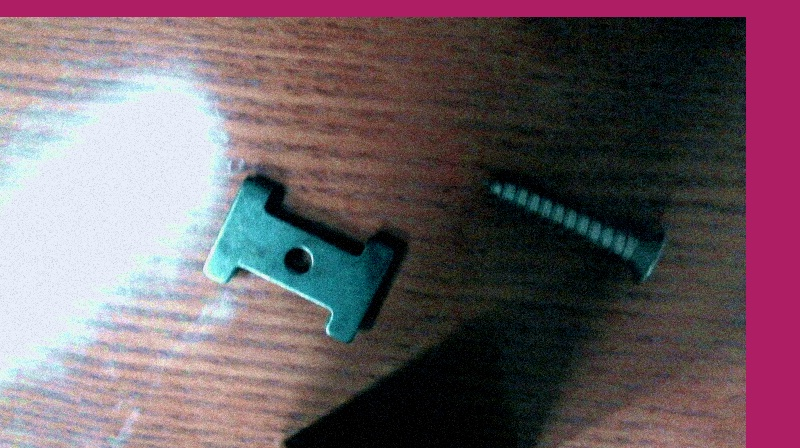O002: (196, 173, 401, 346)
S001: (482, 175, 671, 289)
